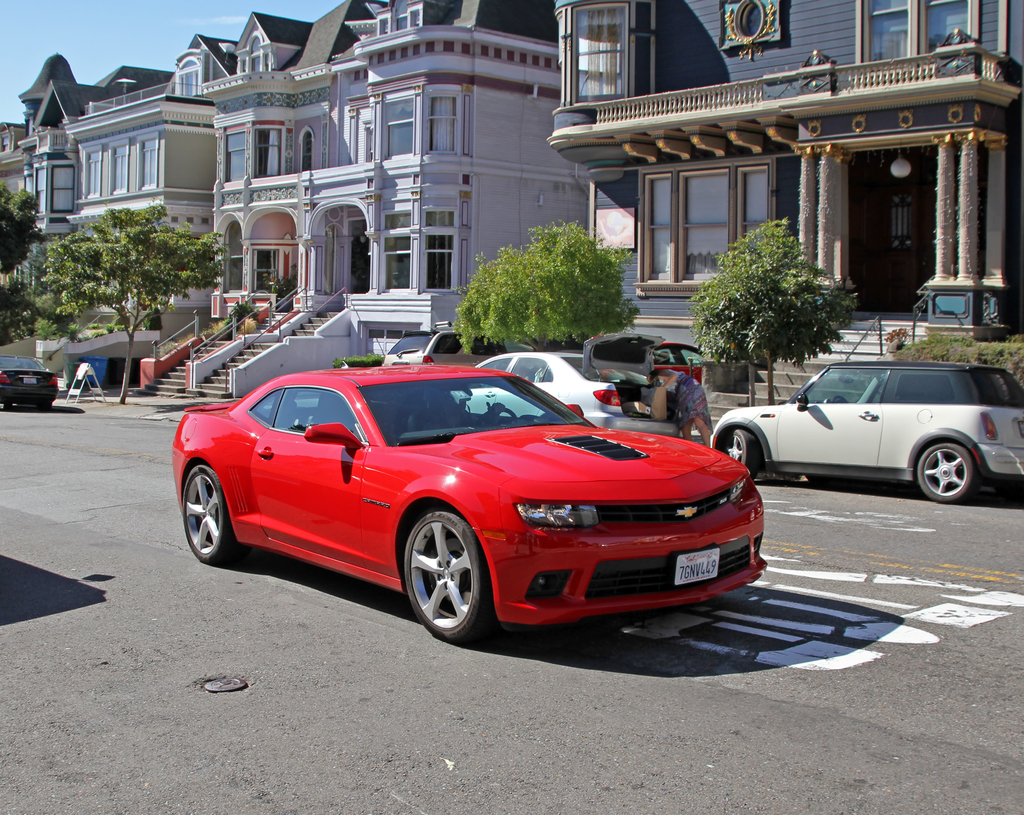Car: (176, 340, 776, 644), (709, 355, 1023, 502), (442, 323, 682, 421), (0, 351, 58, 409)
